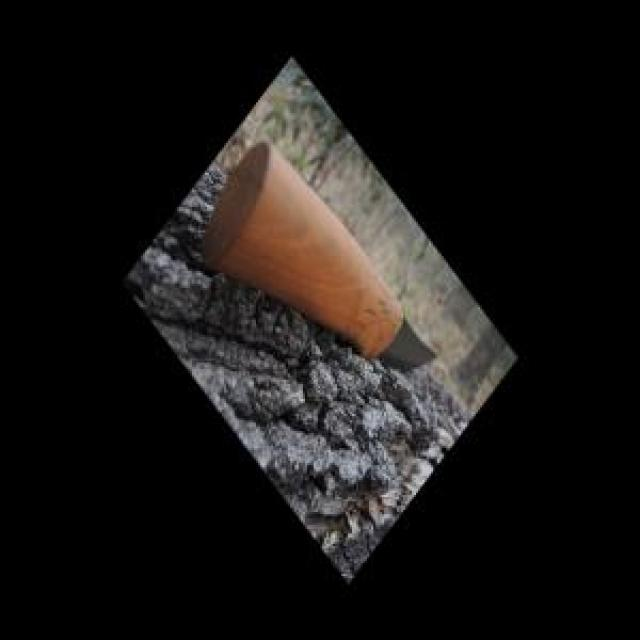knife: (196, 158, 443, 367)
